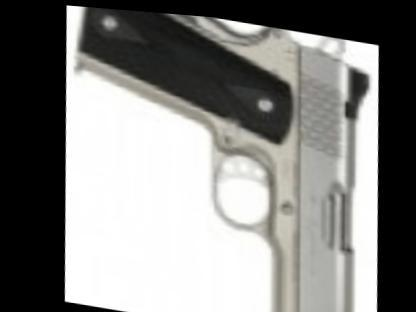pistol: (52, 3, 391, 311)
